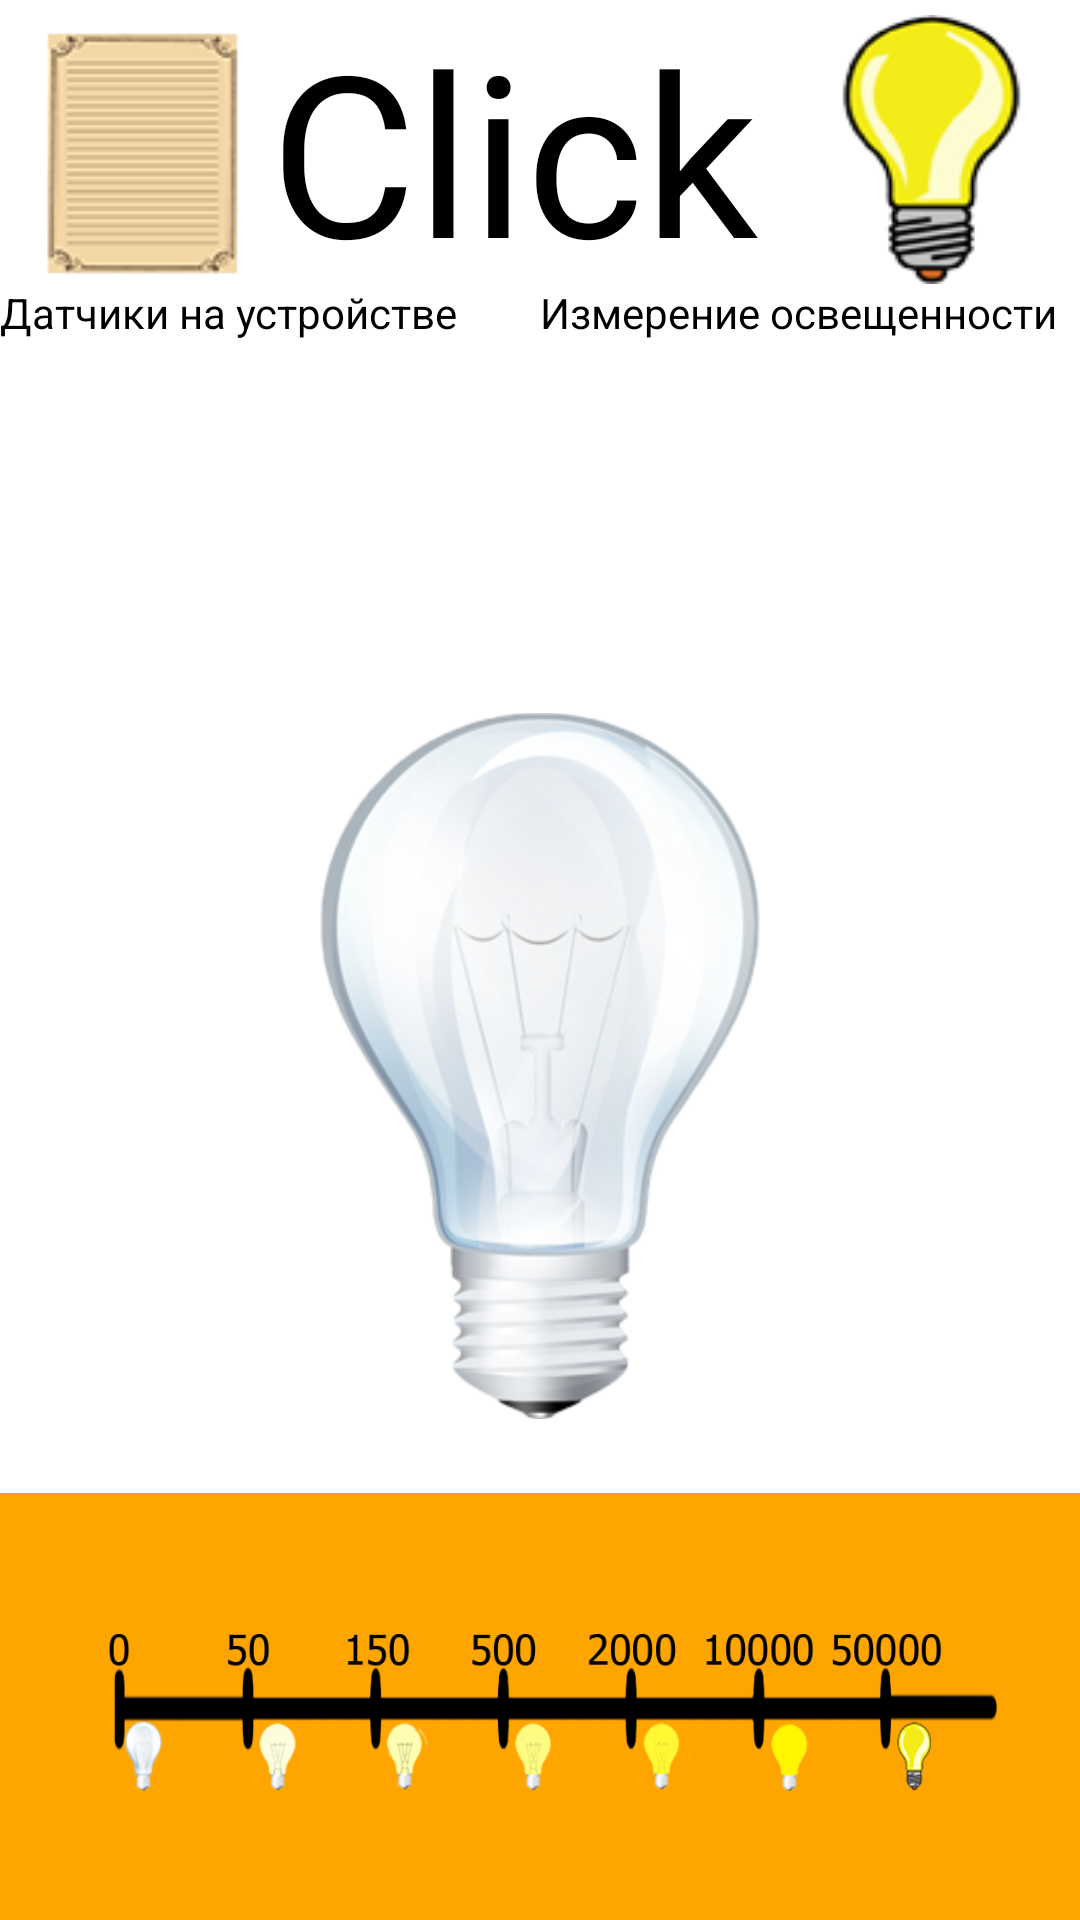

Where to tap for icons on this 1080×1920 app screen, as (x,y):
list: (142,153)
